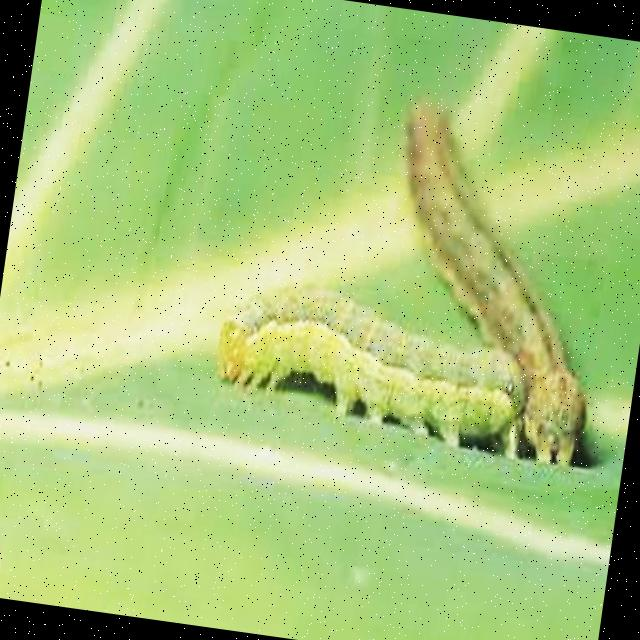worm: (207, 74, 631, 471), (208, 270, 543, 461)
